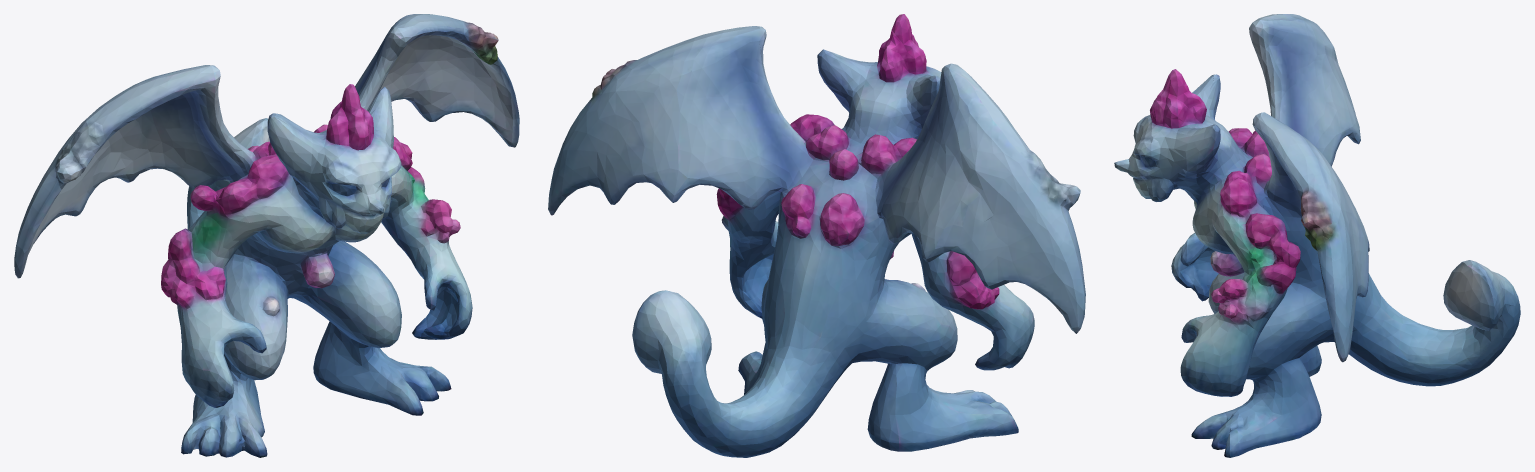
File: water_gargoyle.glb
The picture shows the model from 3 angles, left to right: view 1: azimuth 30°, elevation 25°; view 2: azimuth 150°, elevation 25°; view 3: azimuth 270°, elevation 25°; orthographic projection. The views are drawn at different scales.
Visible parts, largest first — view 1: world.001; view 2: world.001; view 3: world.001.
Part boxes in pixels (x1,y1,x2,y2): world.001: (14,14,519,457); world.001: (548,14,1085,457); world.001: (1114,14,1520,457).
Size of the model in its own units: 0.9991 by 0.6822 by 0.7396.
1 material, 1 textured.
